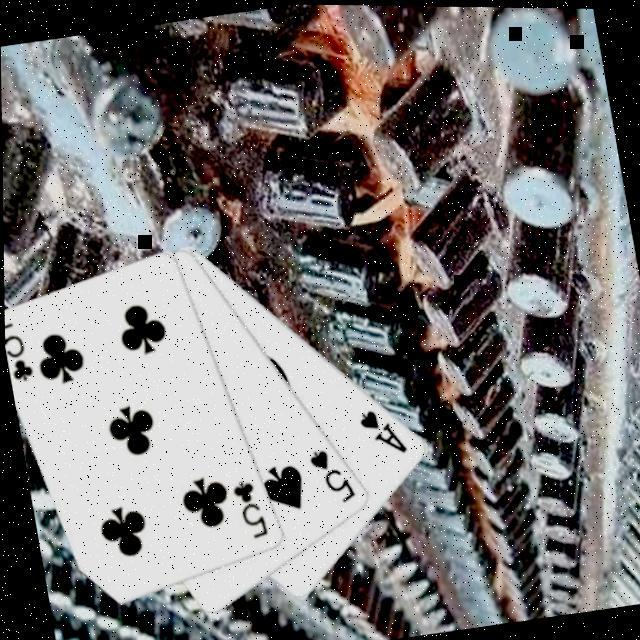5C: (228, 475, 273, 546), (4, 319, 39, 388)
5S: (306, 442, 362, 511)
AS: (355, 401, 413, 463)
